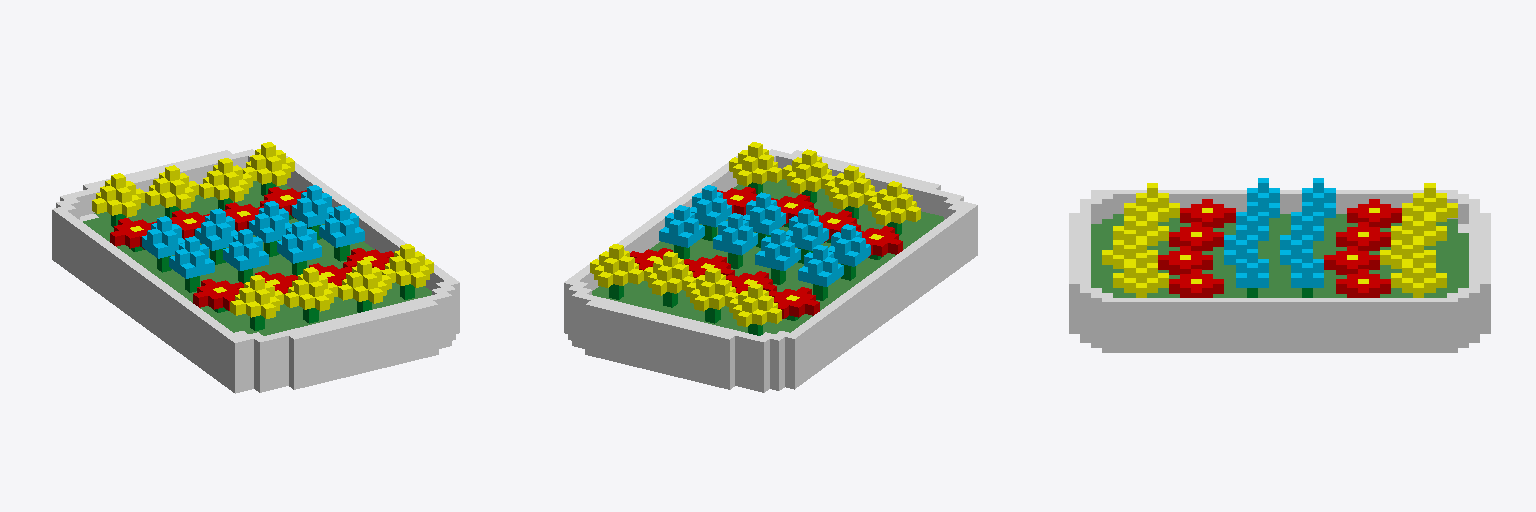
3 views of the same model, side by side, from view 1: azimuth 30°, elevation 25°; view 2: azimuth 150°, elevation 25°; view 3: azimuth 270°, elevation 25° (orthographic).
Visible parts, largest first — view 1: object 1; view 2: object 1; view 3: object 1.
Part boxes in pixels (x1,y1,x2,y2): object 1: (52, 142, 459, 393); object 1: (564, 142, 977, 392); object 1: (1069, 178, 1490, 352).
Size of the model in its own units: 2.4 by 0.8 by 3.8.
1 materials, 1 textured.